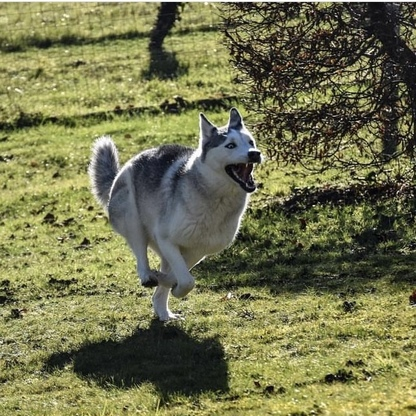husky: (85, 106, 266, 326)
